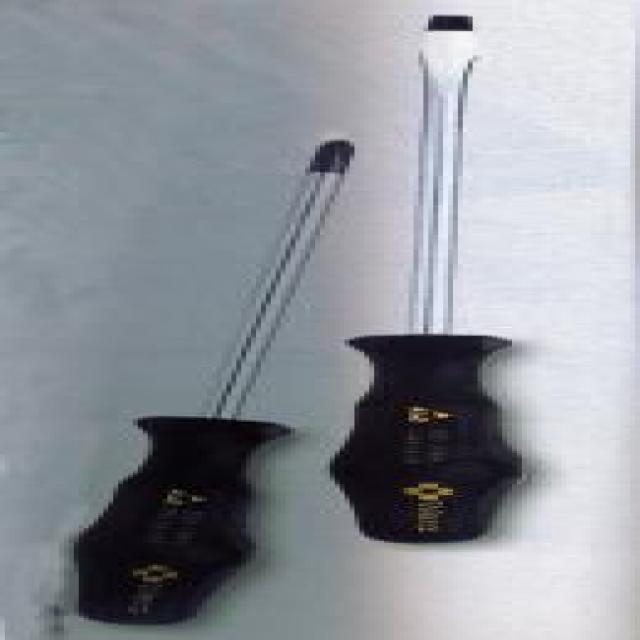screw driver: (260, 0, 628, 548)
